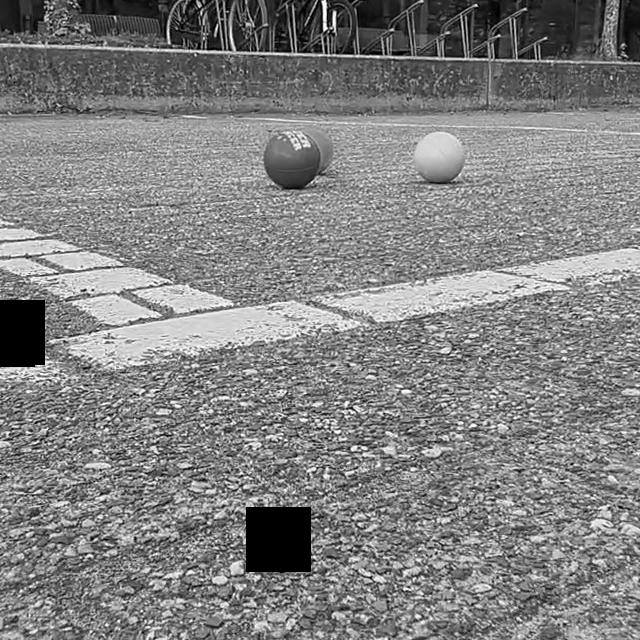ball: (264, 129, 324, 192), (412, 128, 468, 187)
